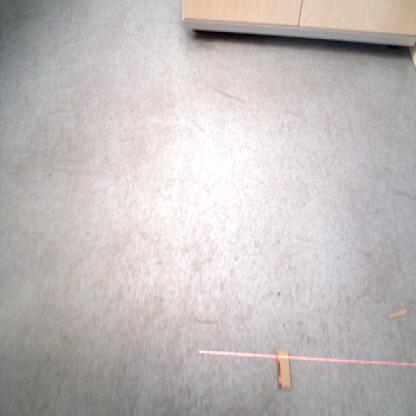dirty: (275, 347, 292, 391), (385, 305, 409, 321)
mark: (212, 86, 246, 104), (192, 316, 218, 327), (284, 106, 302, 118), (191, 118, 204, 133), (309, 122, 321, 131), (47, 169, 54, 179), (186, 386, 191, 398), (276, 289, 282, 299)
